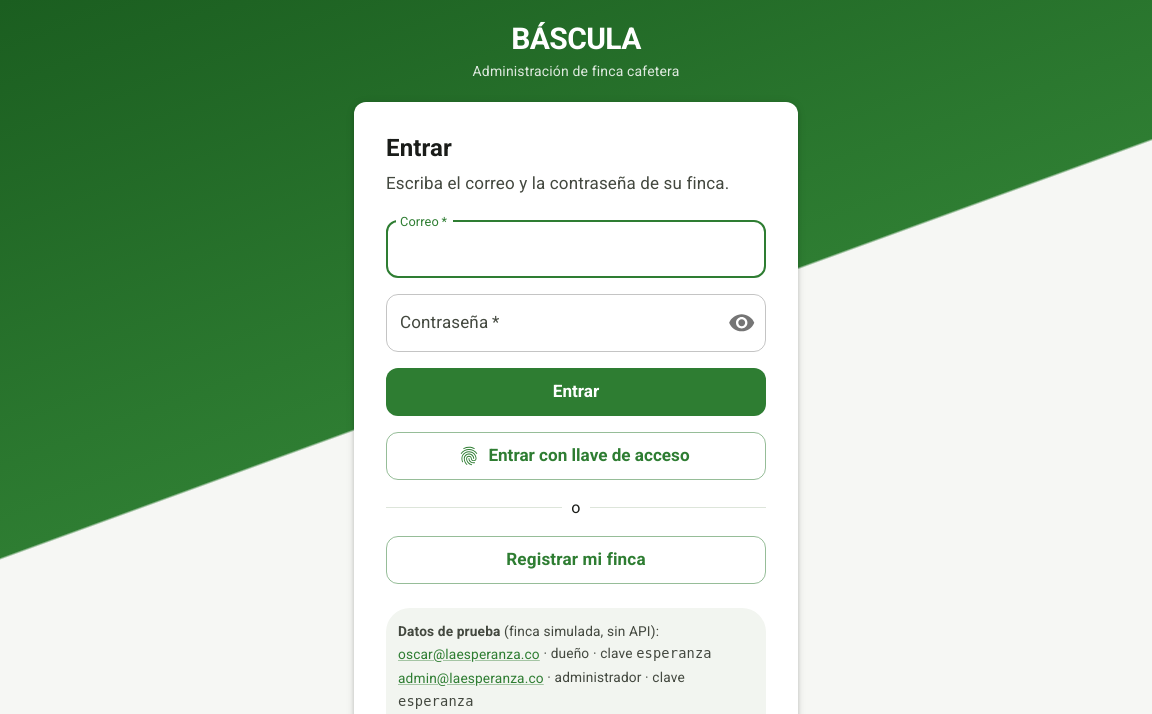
it: signing in › takes the owner from the login box to their farm
The width and height of the screenshot is (1152, 714).
Type "oscar@laesperanza.co" into the field labelled "Correo *" at [576, 249], box [386,221,766,278]
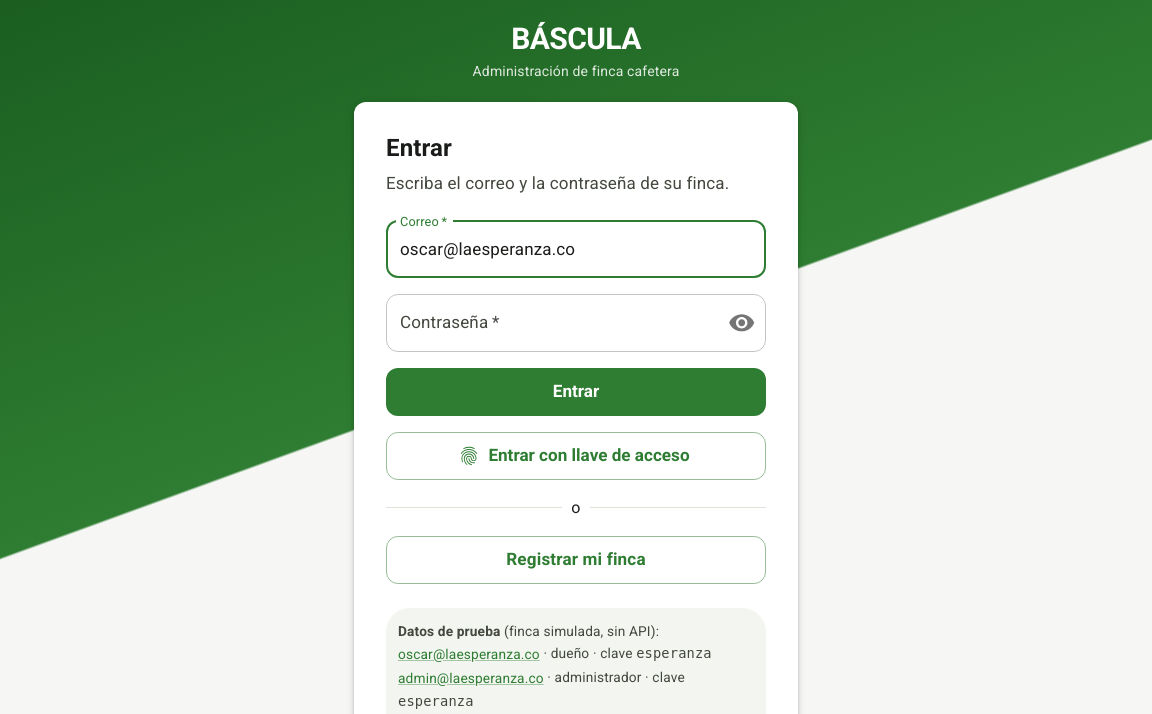
Type "esperanza" into the password field labelled "Contraseña *" at [549, 323], box [386,294,712,352]
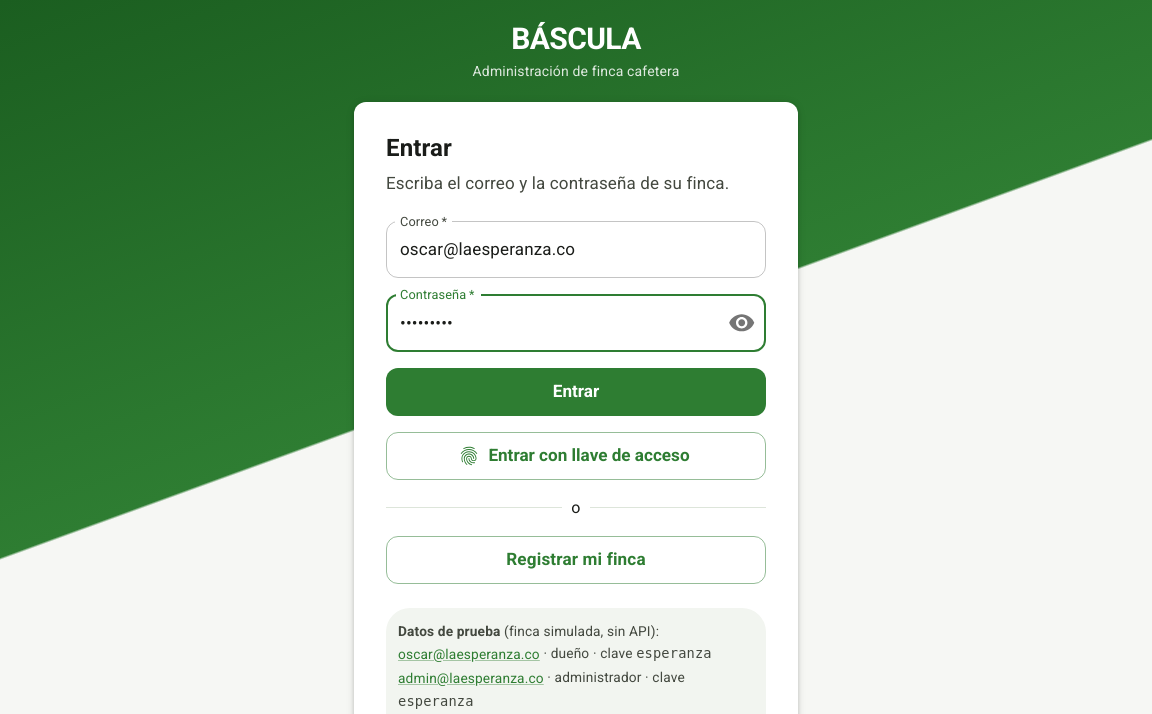
Click the button "Entrar" at [576, 392], box [386,368,766,416]
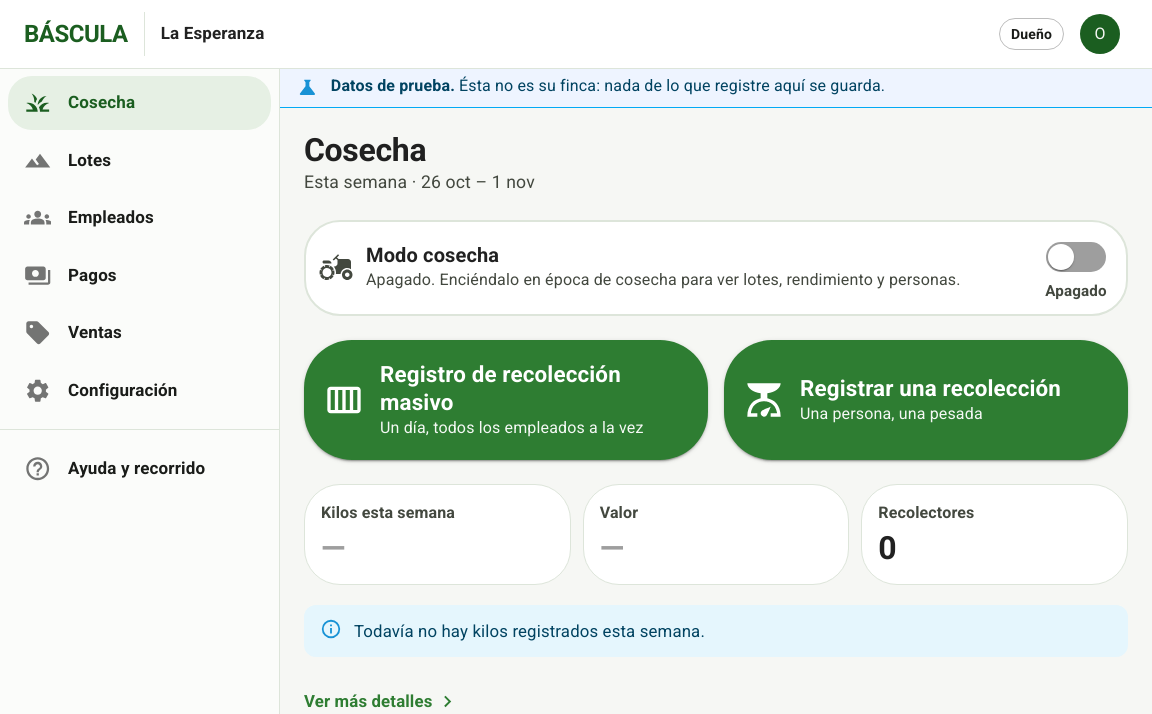
Expected: the heading "Cosecha" is shown, [304,131,426,169]
Expected: the text "La Esperanza" is shown, [161,21,264,47]
